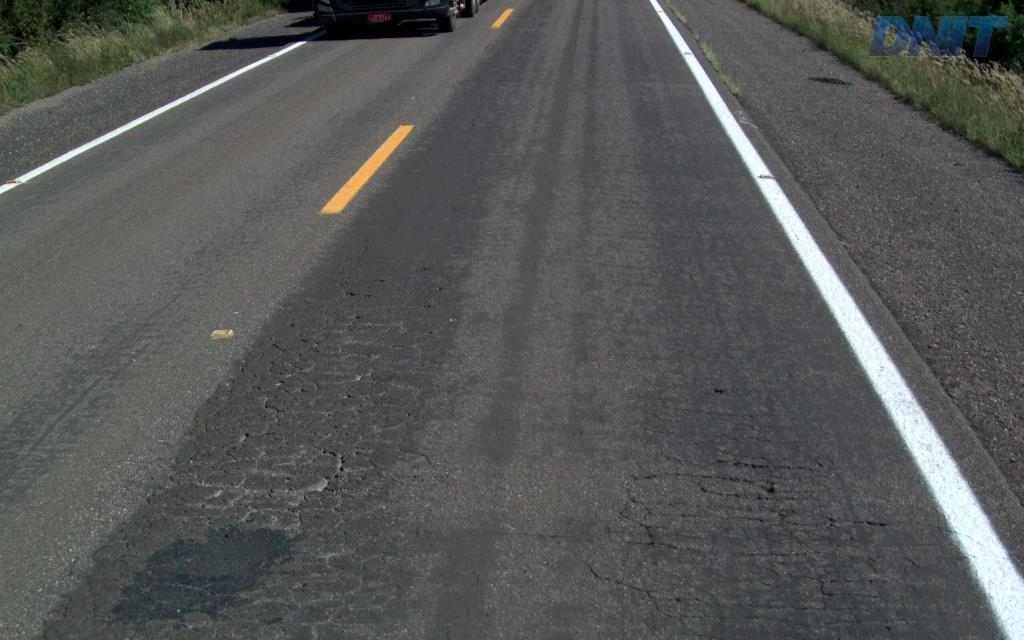crack: (732, 451, 795, 502), (757, 501, 808, 545), (247, 527, 291, 554)
